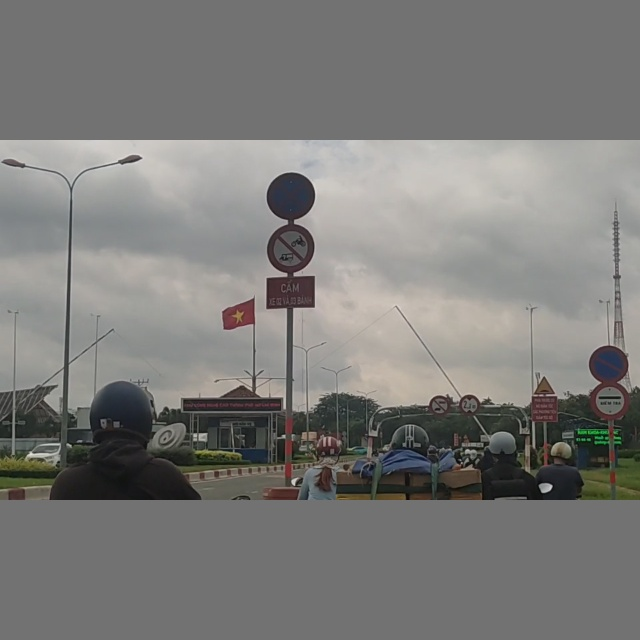P.107: (429, 396, 450, 415)
P.111: (269, 223, 315, 271)
P.117*: (459, 394, 481, 415)
P.129: (591, 385, 630, 419)
P.130: (267, 172, 315, 219)
P.131a: (589, 345, 628, 381)
W.221b: (533, 375, 557, 395)
